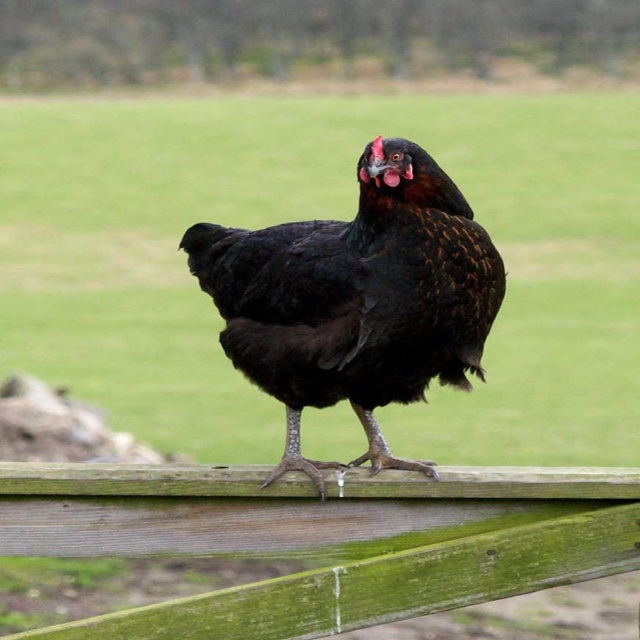Chicken: (186, 138, 509, 502)
